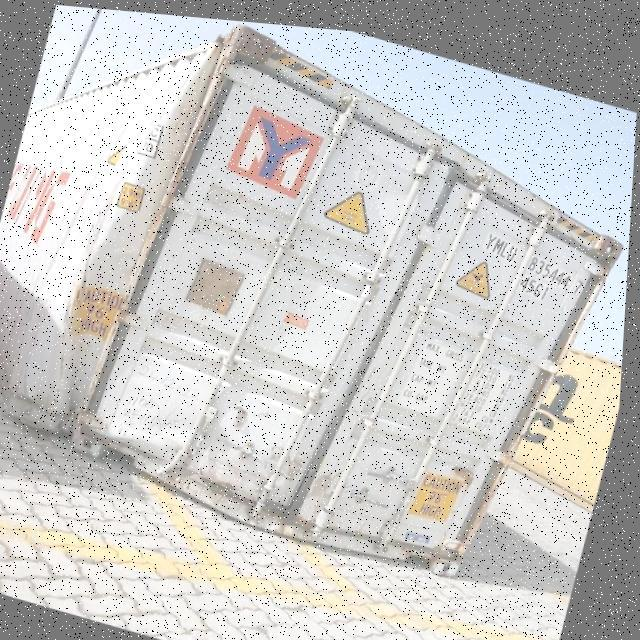rust: (435, 429, 505, 483)
